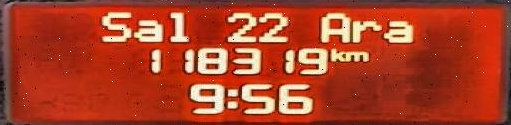1: (145, 45, 162, 79), (178, 45, 195, 77), (280, 46, 294, 76)
2: (257, 9, 290, 43), (223, 8, 256, 42)
3: (232, 43, 262, 77)
5: (240, 81, 274, 115)
6: (277, 81, 316, 115)
8: (196, 45, 226, 74)
9: (188, 83, 225, 114), (296, 46, 326, 77)
X: (96, 9, 132, 44), (317, 10, 350, 42), (384, 17, 417, 44), (132, 17, 163, 43), (168, 9, 192, 42), (351, 18, 378, 43), (344, 49, 371, 62), (225, 86, 238, 110), (328, 47, 344, 62)
